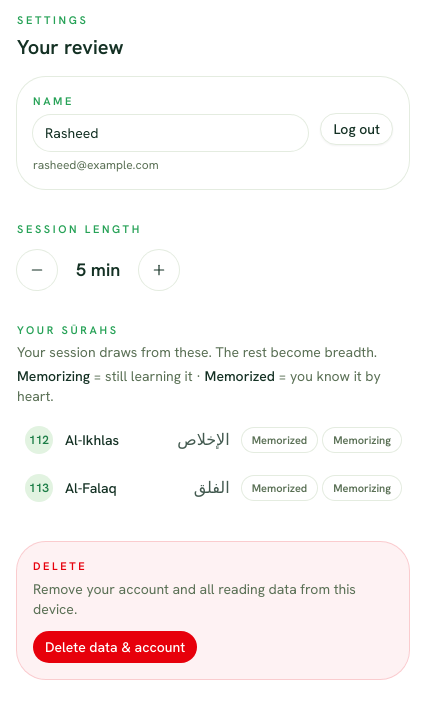
Scenario: SettingsView › can cancel the delete confirm, leaving data intact
The image size is (427, 701).
Click the button "Delete data & account" at (115,646), box x1=33 y1=630 x2=197 y2=662
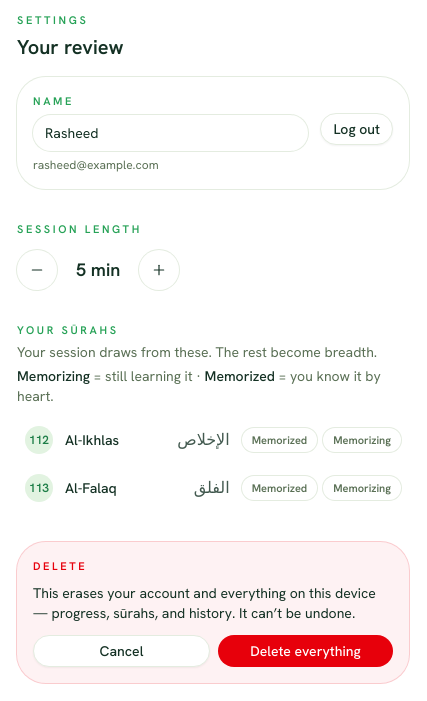
Click the button "Cancel" at (122,650), box x1=33 y1=634 x2=210 y2=666
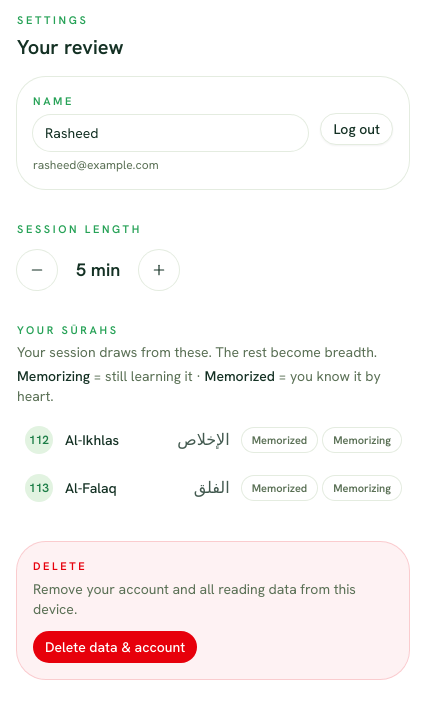
Expected: the text "rasheed@example.com" is shown, x1=33 y1=157 x2=159 y2=173
Expected: the button "Delete everything" is gone
